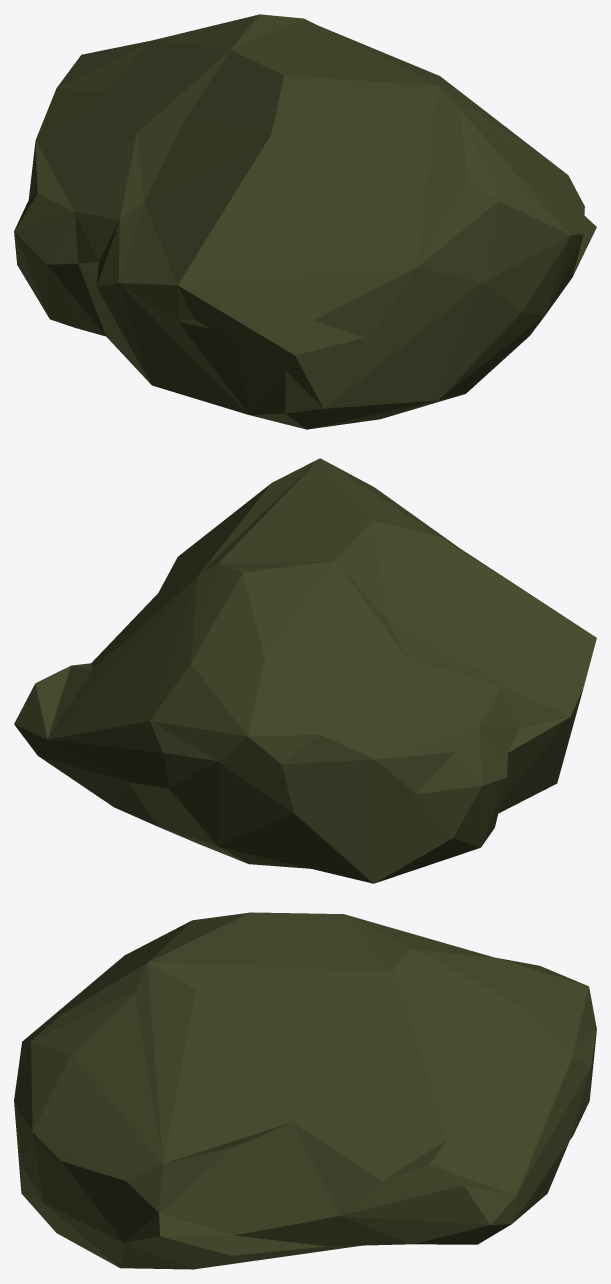
File: SM_small_rock_27.fbx
3 renders of one model, top to bottom at view 1: azimuth 30°, elevation 25°; view 2: azimuth 150°, elevation 25°; view 3: azimuth 270°, elevation 25°, orthographic. The views are drawn at different scales.
Parts seen in each view (by area): view 1: small_rock_27; view 2: small_rock_27; view 3: small_rock_27.
Part boxes in pixels (x1,y1,x2,y2): small_rock_27: (14,14,596,429); small_rock_27: (14,458,596,883); small_rock_27: (14,912,596,1269).
Bounding box in the file's own units: 12.48 × 7.03 × 13.25.
